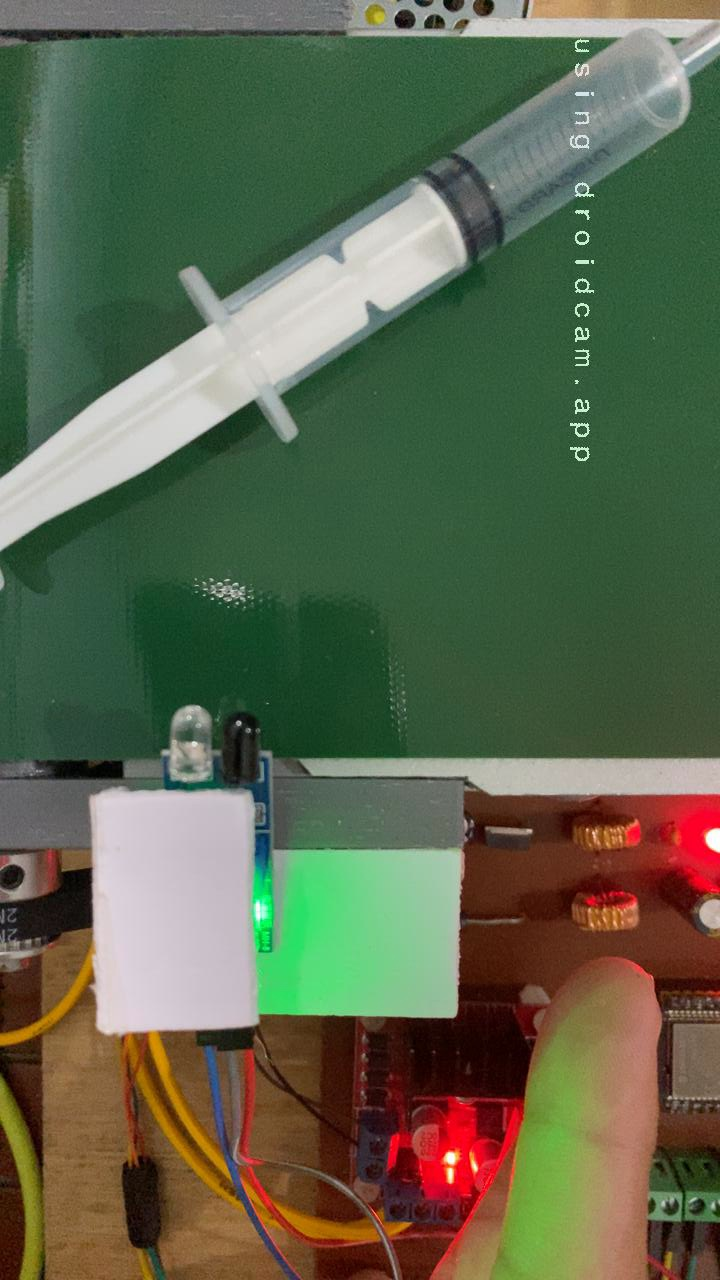syringe: (0, 36, 720, 559)
